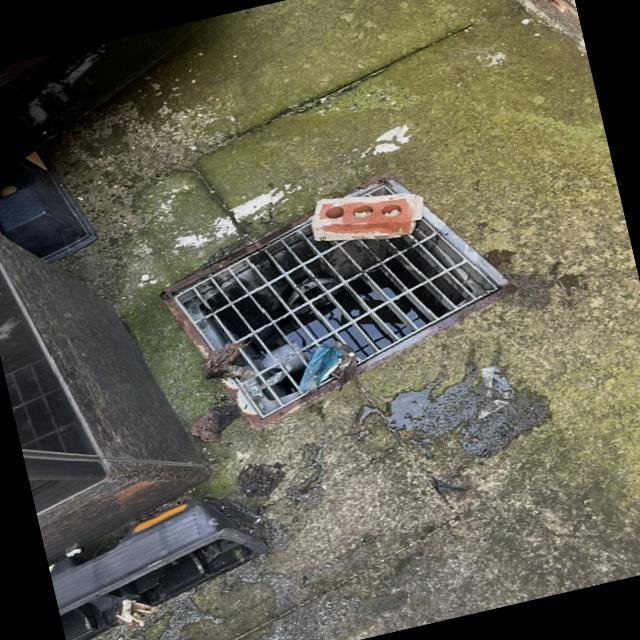drain_area: (174, 220, 500, 418), (365, 185, 394, 196)
drain_full: (174, 184, 499, 417)
